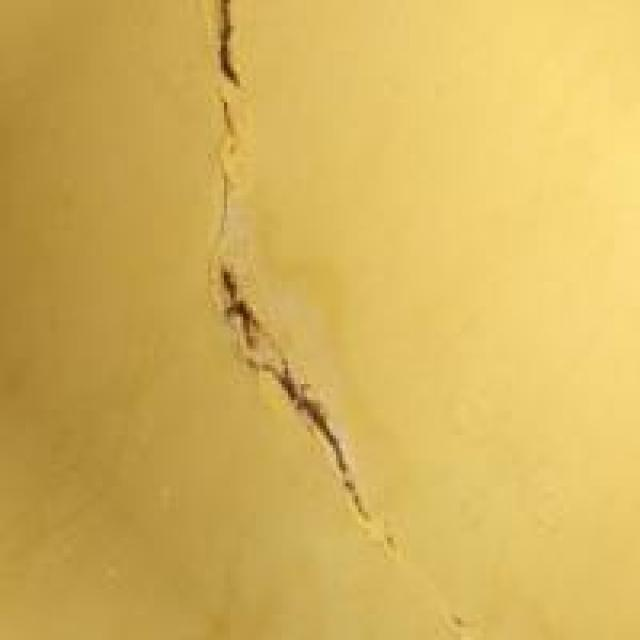Crack: (170, 0, 426, 576)
